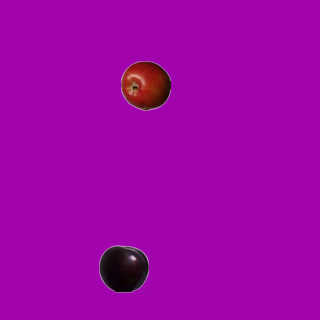Apple Braeburn: (120, 60, 170, 110)
Cherry Wax Black: (98, 243, 148, 293)
